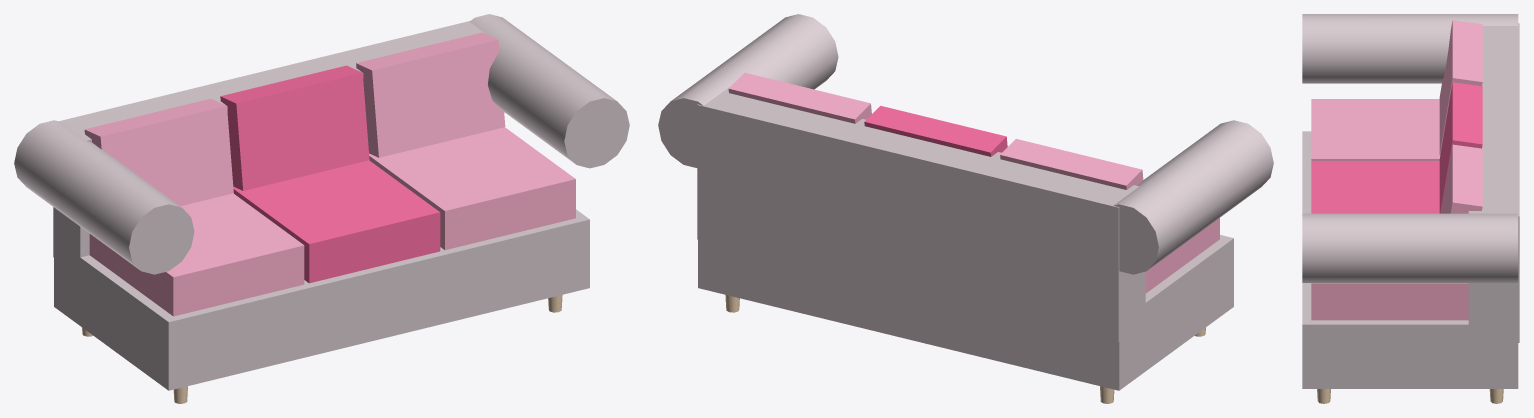
The model's file is table_cute_1.glb.
3 renders of one model, left to right at view 1: azimuth 30°, elevation 25°; view 2: azimuth 150°, elevation 25°; view 3: azimuth 270°, elevation 25°, orthographic. The views are drawn at different scales.
Size of the model in its own units: 2.14 by 0.8871 by 0.855.
